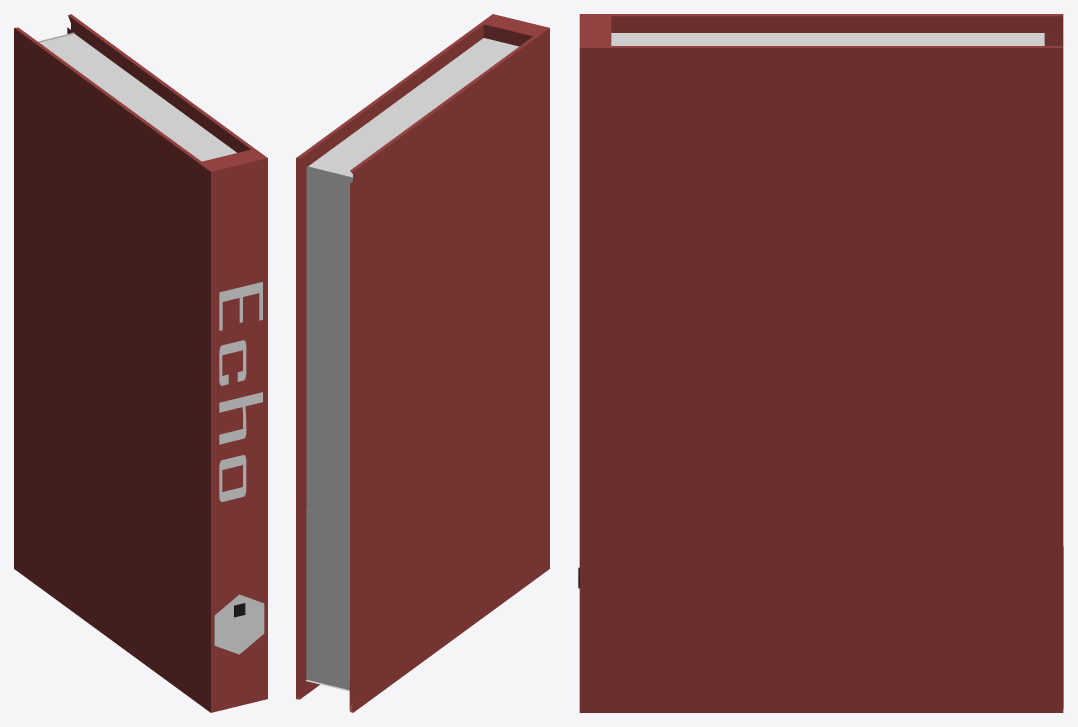
File: Book_Echo.fbx
The picture shows the model from 3 angles, left to right: view 1: azimuth 30°, elevation 25°; view 2: azimuth 150°, elevation 25°; view 3: azimuth 270°, elevation 25°; orthographic projection. The views are drawn at different scales.
Parts seen in each view (by area): view 1: Book, Text, Cylinder; view 2: Book; view 3: Book.
Boxes of the visible parts, x1,y1,x2,y2 form: Book: (14,14,267,712); Text: (219,282,262,501); Cylinder: (214,594,264,654); Book: (296,14,549,712); Book: (579,14,1063,712).
Size of the model in its own units: 6.67 by 60.59 by 40.09.
